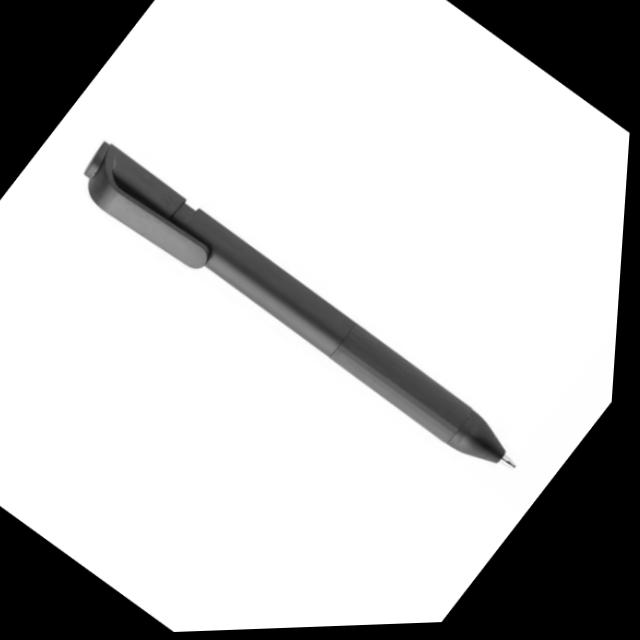pen: (42, 114, 556, 512)
